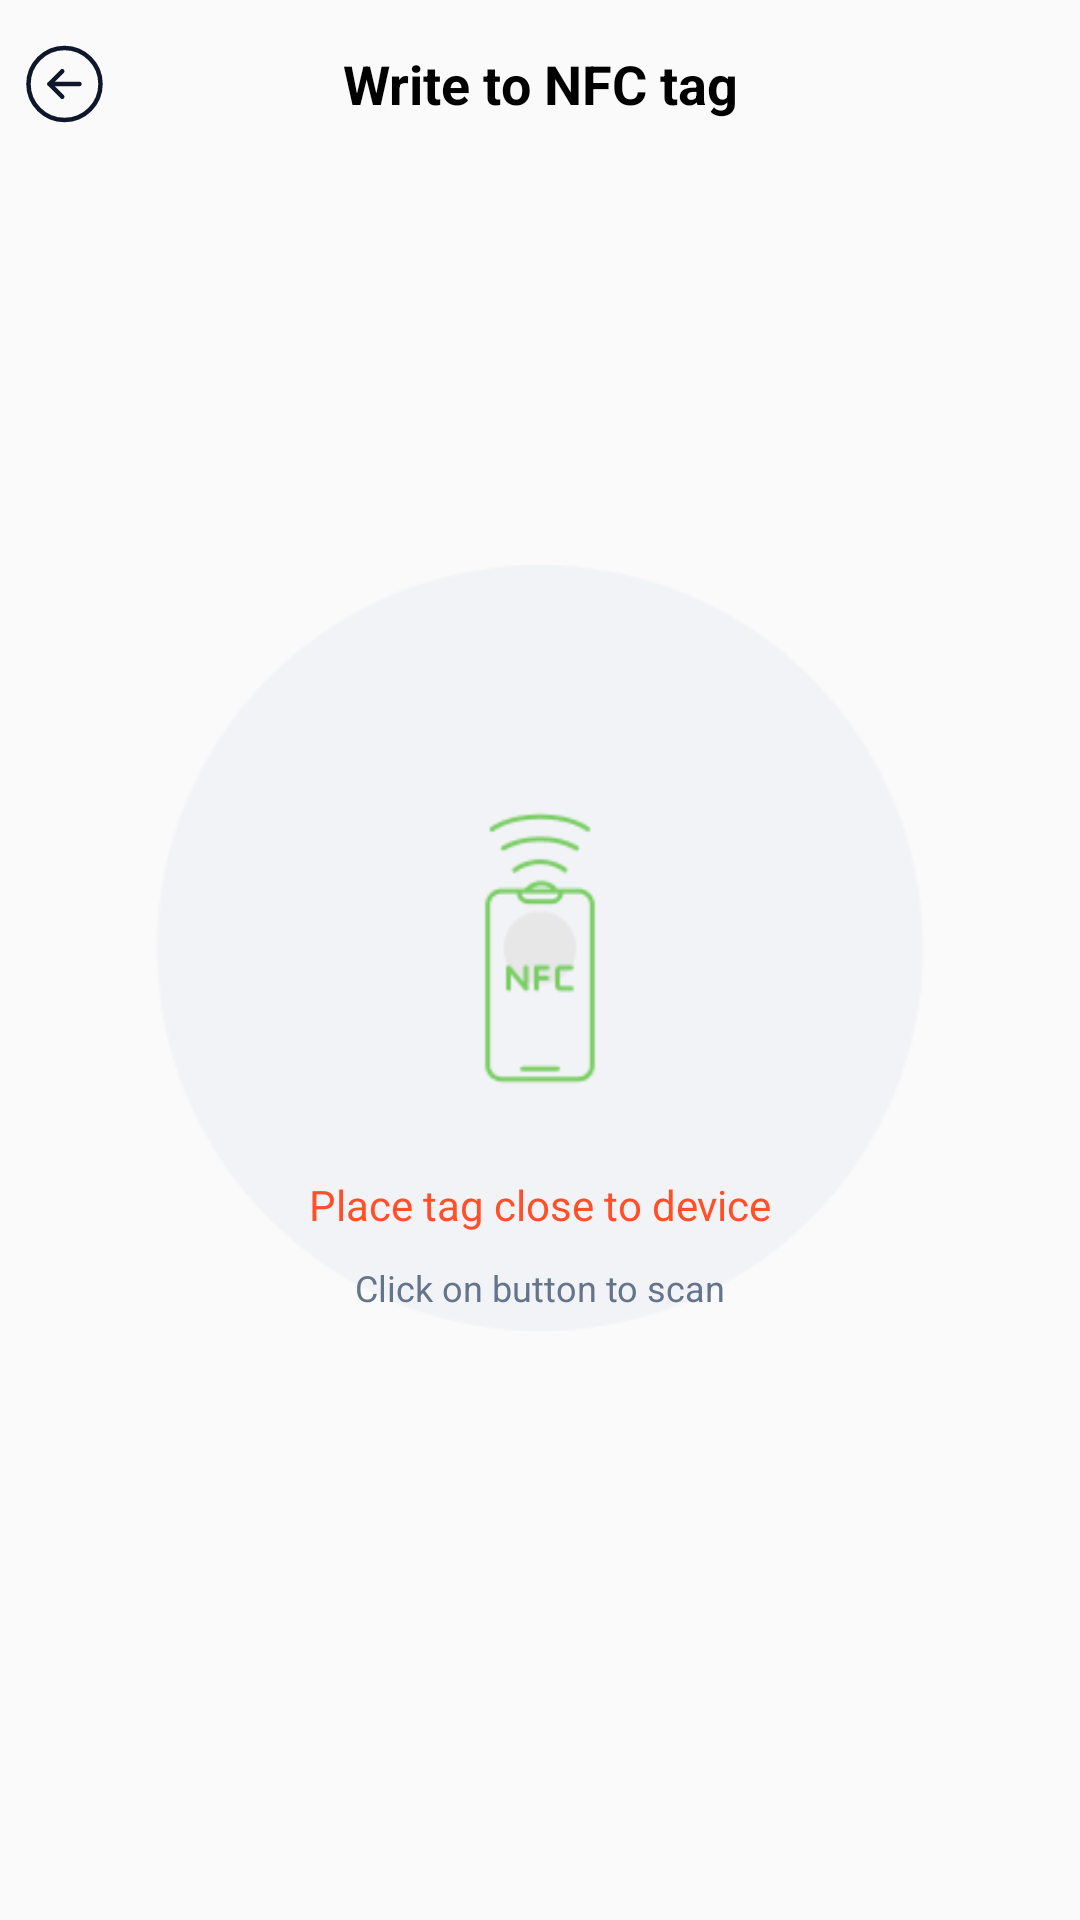

Icons on this 1080x1920 Android screen, each with the point to tap as [x,y]:
back: [64,84]
